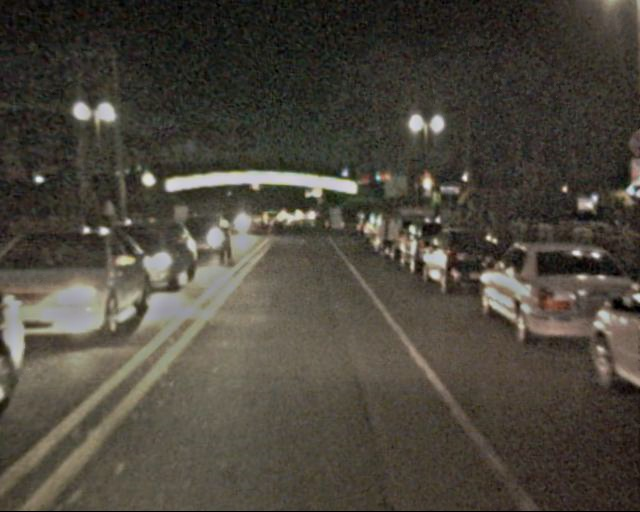person: (372, 207, 399, 273)
